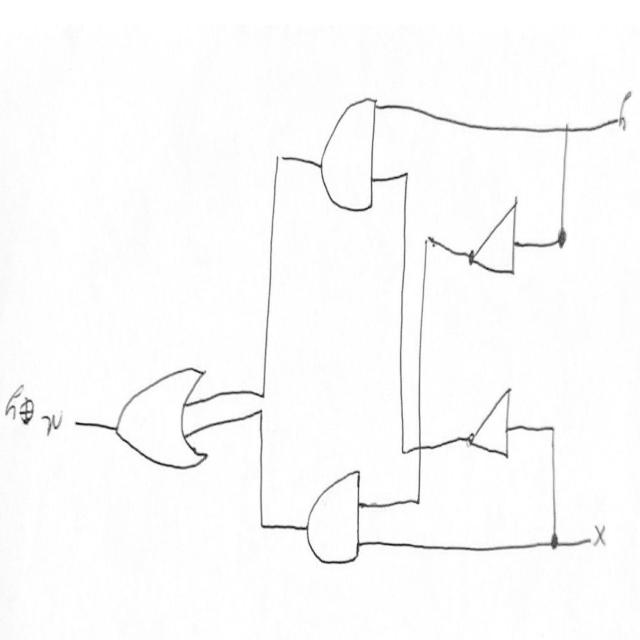AND: (311, 75, 386, 230), (296, 466, 372, 581)
NOT: (459, 191, 527, 306), (455, 380, 523, 474)
OR: (105, 353, 221, 518)
